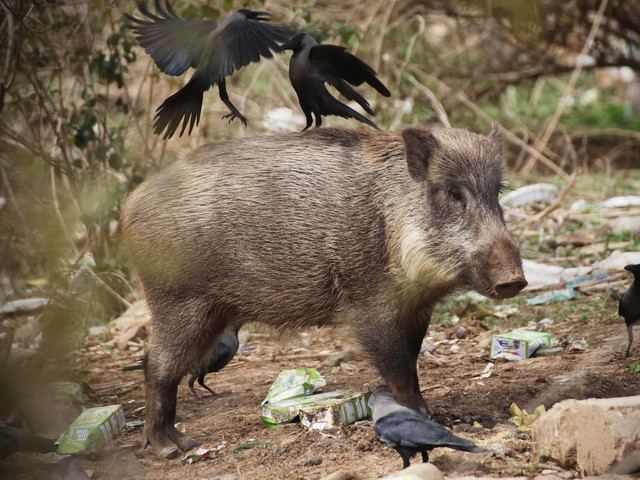Pig: (124, 124, 537, 398)
